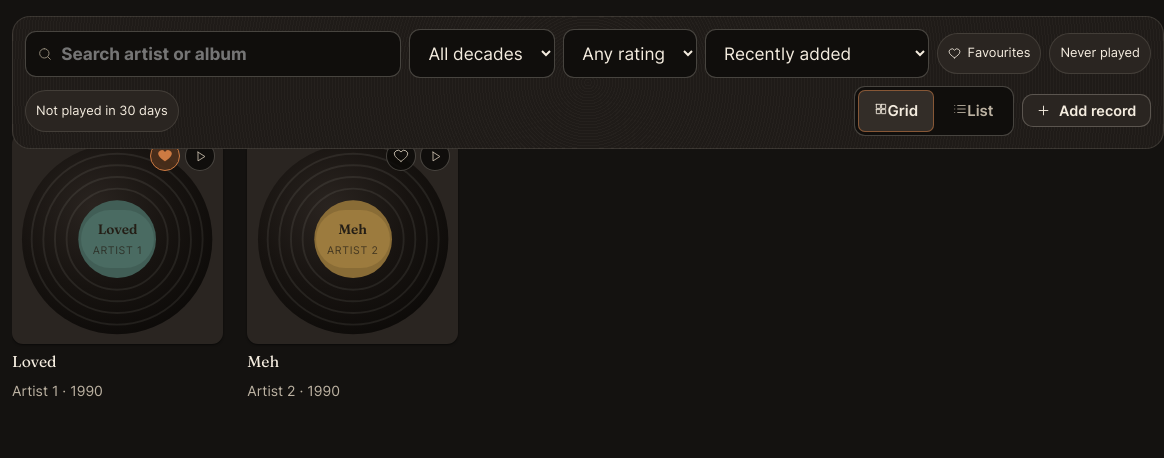
Test: CollectionBrowser › favourites-only toggle filters by is_favorite
What coordinates should you click on to do the following:
click the button "Favourites"
I would click on:
 (989, 54)
Its box is [937,33,1041,74].
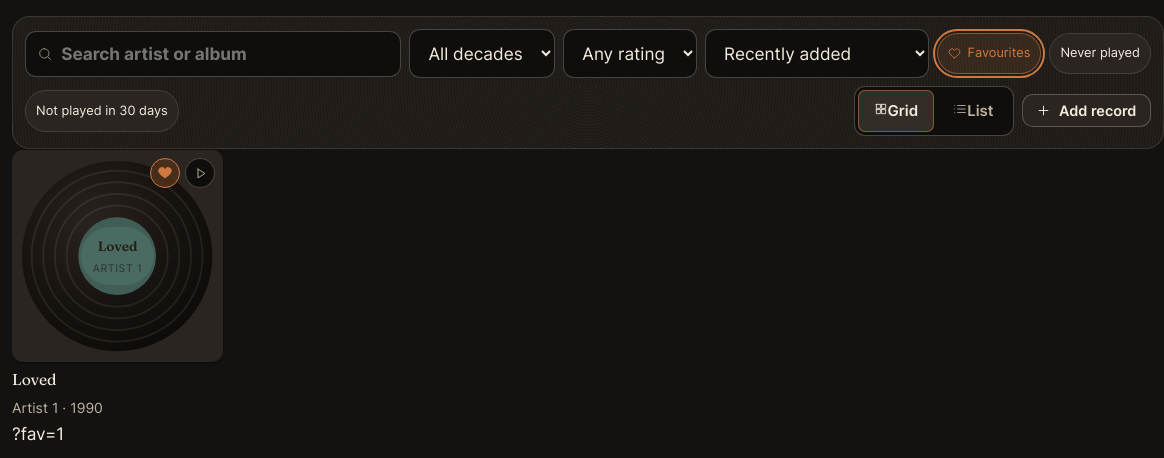
expect the text "1 of 2 records" is shown: met, box [12,102,109,126]
expect the link "Meh" is gone: met
